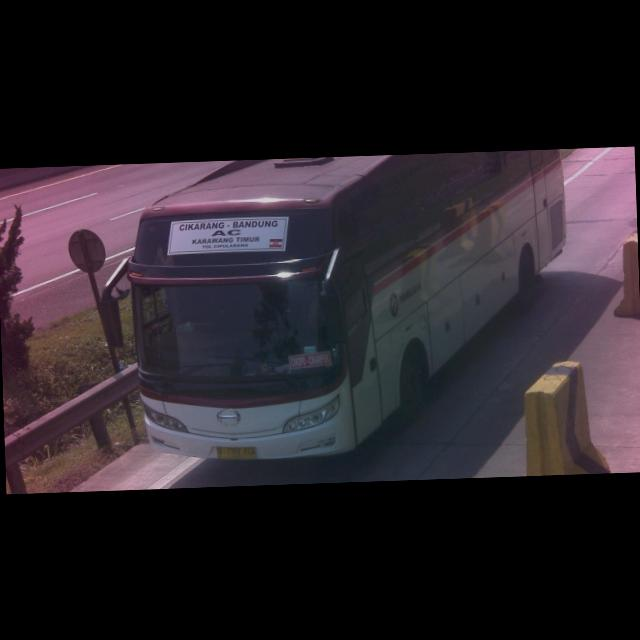plate: (214, 443, 258, 461)
